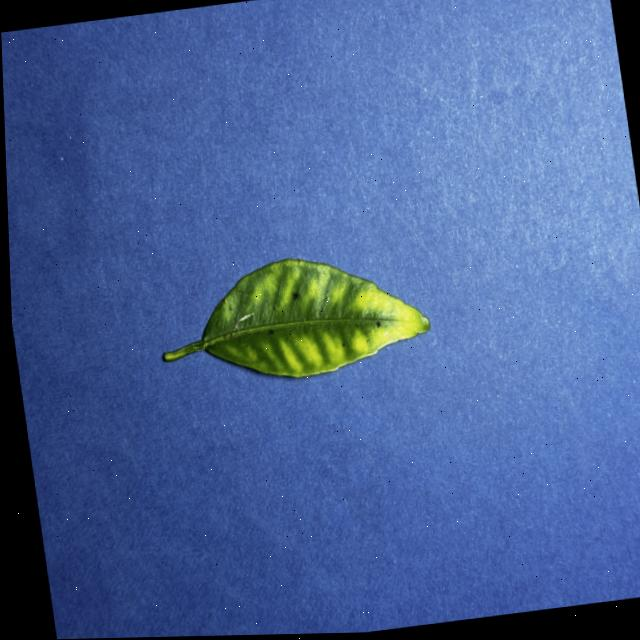greening: (162, 259, 428, 377)
